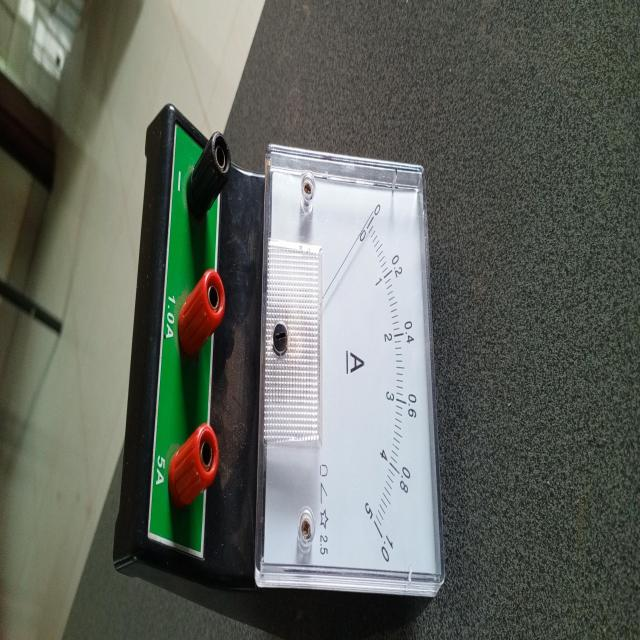Ammeter Analog: (127, 74, 445, 632)
